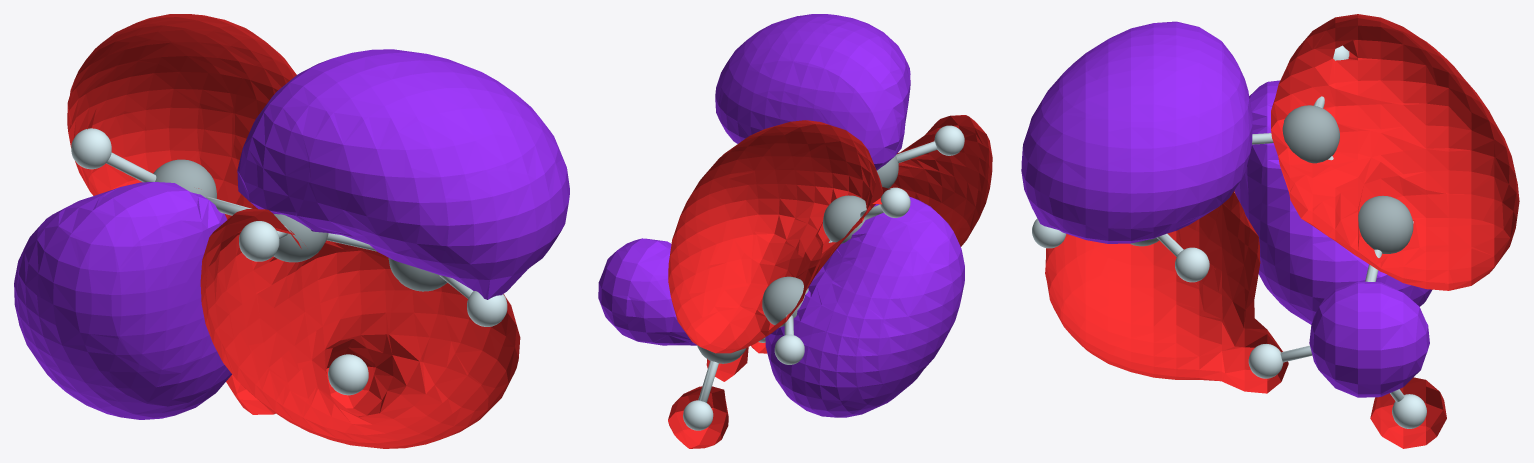
3 views of the same model, side by side, from view 1: azimuth 30°, elevation 25°; view 2: azimuth 150°, elevation 25°; view 3: azimuth 270°, elevation 25° (orthographic). The views are drawn at different scales.
Parts seen in each view (by area): view 1: Renderer Node; view 2: Renderer Node; view 3: Renderer Node.
Part boxes in pixels (x1,y1,x2,y2): Renderer Node: [14, 14, 569, 448]; Renderer Node: [598, 14, 992, 448]; Renderer Node: [1021, 14, 1519, 448].
Size of the model in its own units: 4.89 by 5.02 by 5.7.
